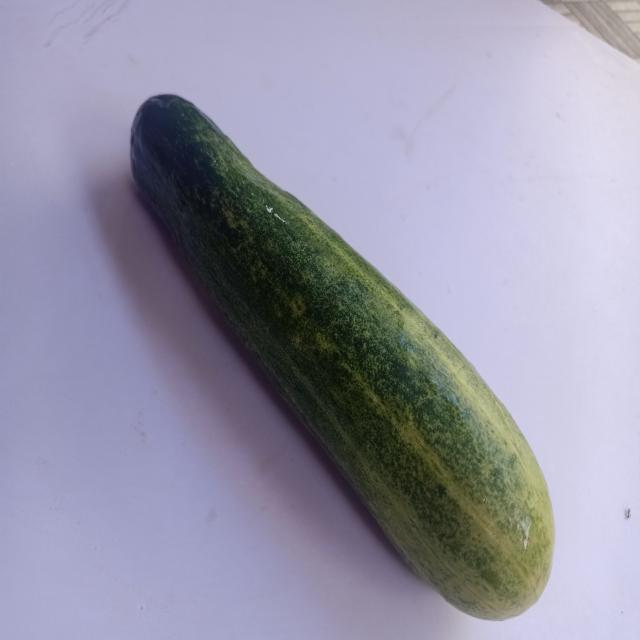Cucumber: (42, 43, 608, 635)
